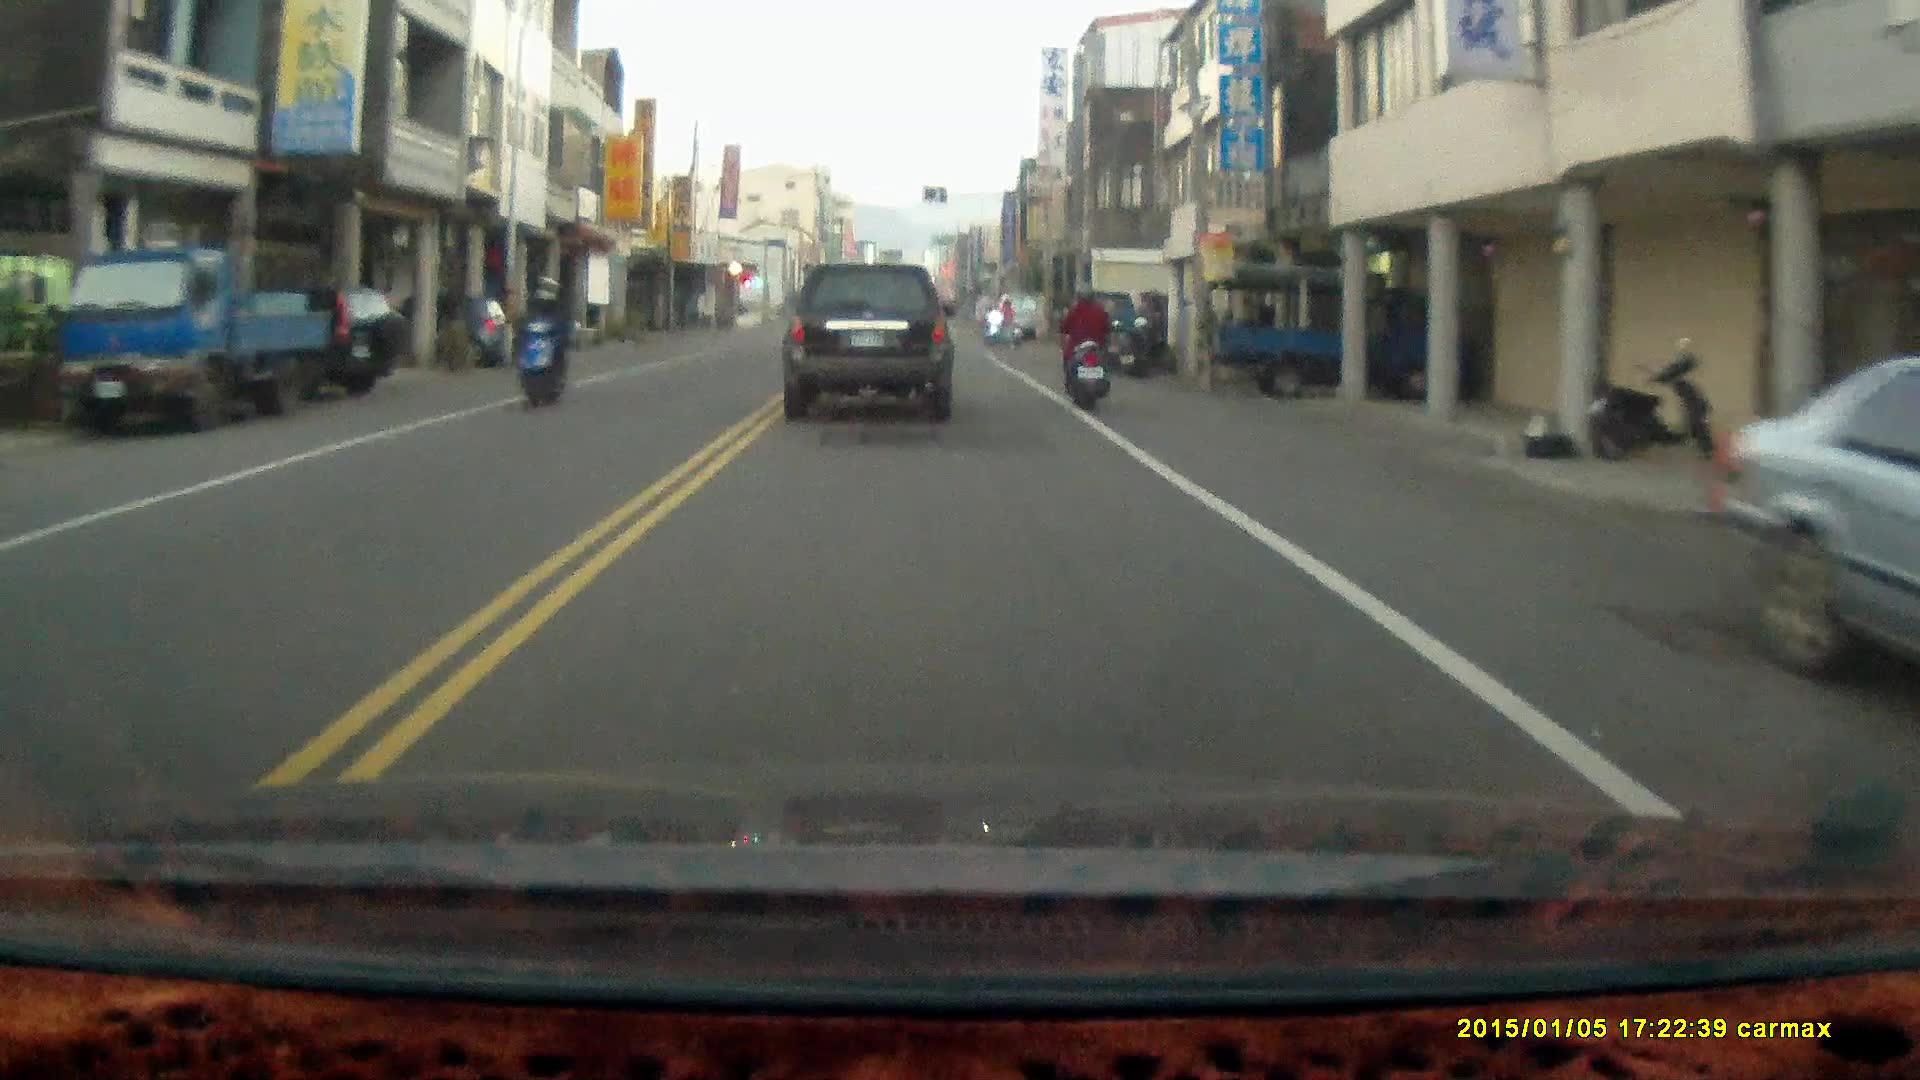rider: (512, 282, 571, 413), (1058, 280, 1111, 414), (981, 296, 1020, 345)
vehicle: (1726, 358, 1920, 696), (63, 252, 332, 443), (1207, 270, 1478, 407), (781, 257, 957, 423), (226, 284, 409, 402), (372, 292, 517, 369)
